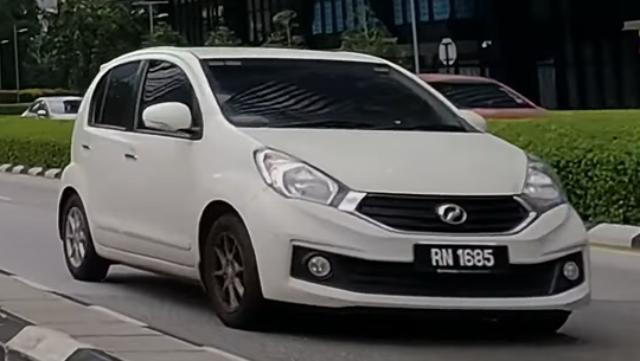License_Plate: (414, 243, 511, 276)
car: (58, 45, 593, 335), (22, 96, 84, 120)
